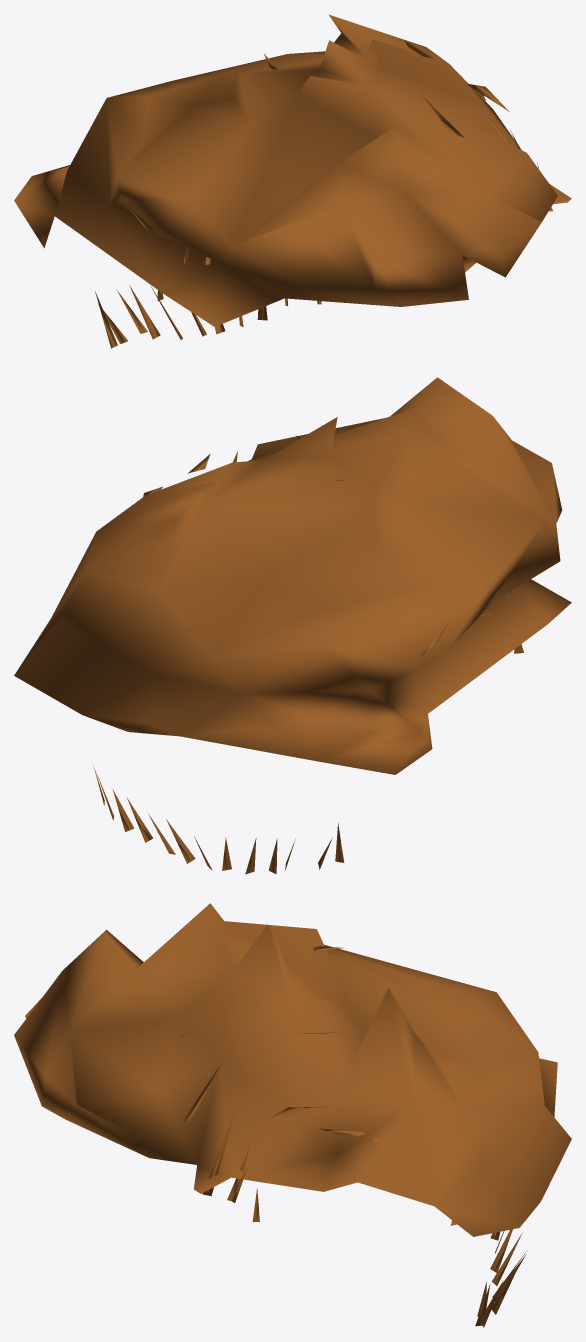
The model's file is quiff.glb.
The picture shows the model from 3 angles, top to bottom: view 1: azimuth 30°, elevation 25°; view 2: azimuth 150°, elevation 25°; view 3: azimuth 270°, elevation 25°; orthographic projection. The views are drawn at different scales.
Visible parts, largest first — view 1: Hair, HairPulledRootStrands; view 2: Hair, HairPulledRootStrands; view 3: Hair, HairPulledRootStrands.
Part boxes in pixels (x1=…): Hair: x1=14, y1=14, x2=571, y2=326; HairPulledRootStrands: x1=95, y1=40, x2=552, y2=348; Hair: x1=14, y1=377, x2=571, y2=774; HairPulledRootStrands: x1=93, y1=435, x2=523, y2=874; Hair: x1=14, y1=903, x2=571, y2=1236; HairPulledRootStrands: x1=175, y1=946, x2=527, y2=1327.
Size of the model in its own units: 0.4068 by 0.3633 by 0.5034.
